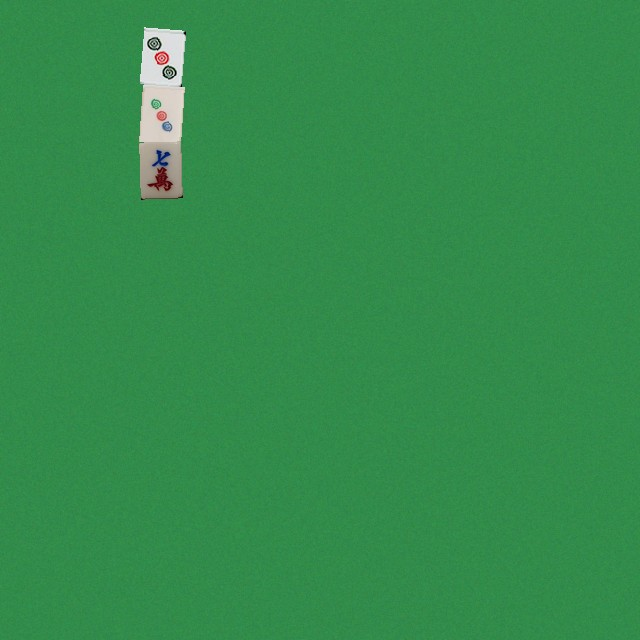tile: (139, 27, 181, 84), (139, 84, 181, 141), (139, 141, 181, 198)
